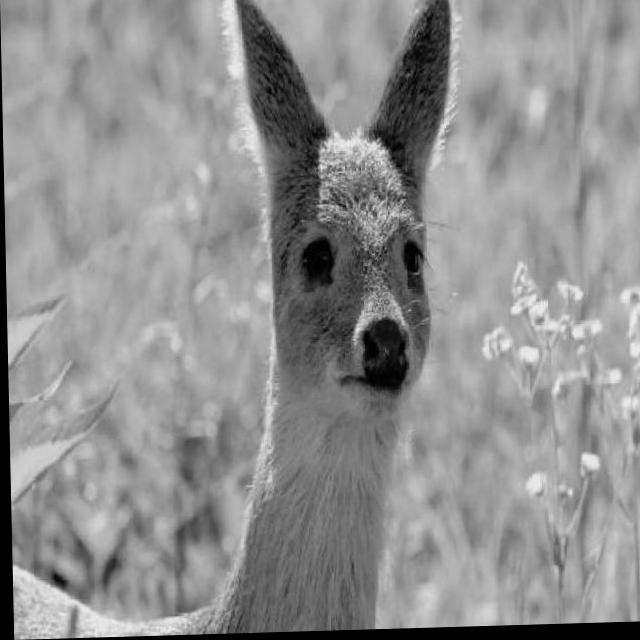Deer: (0, 0, 486, 638)
